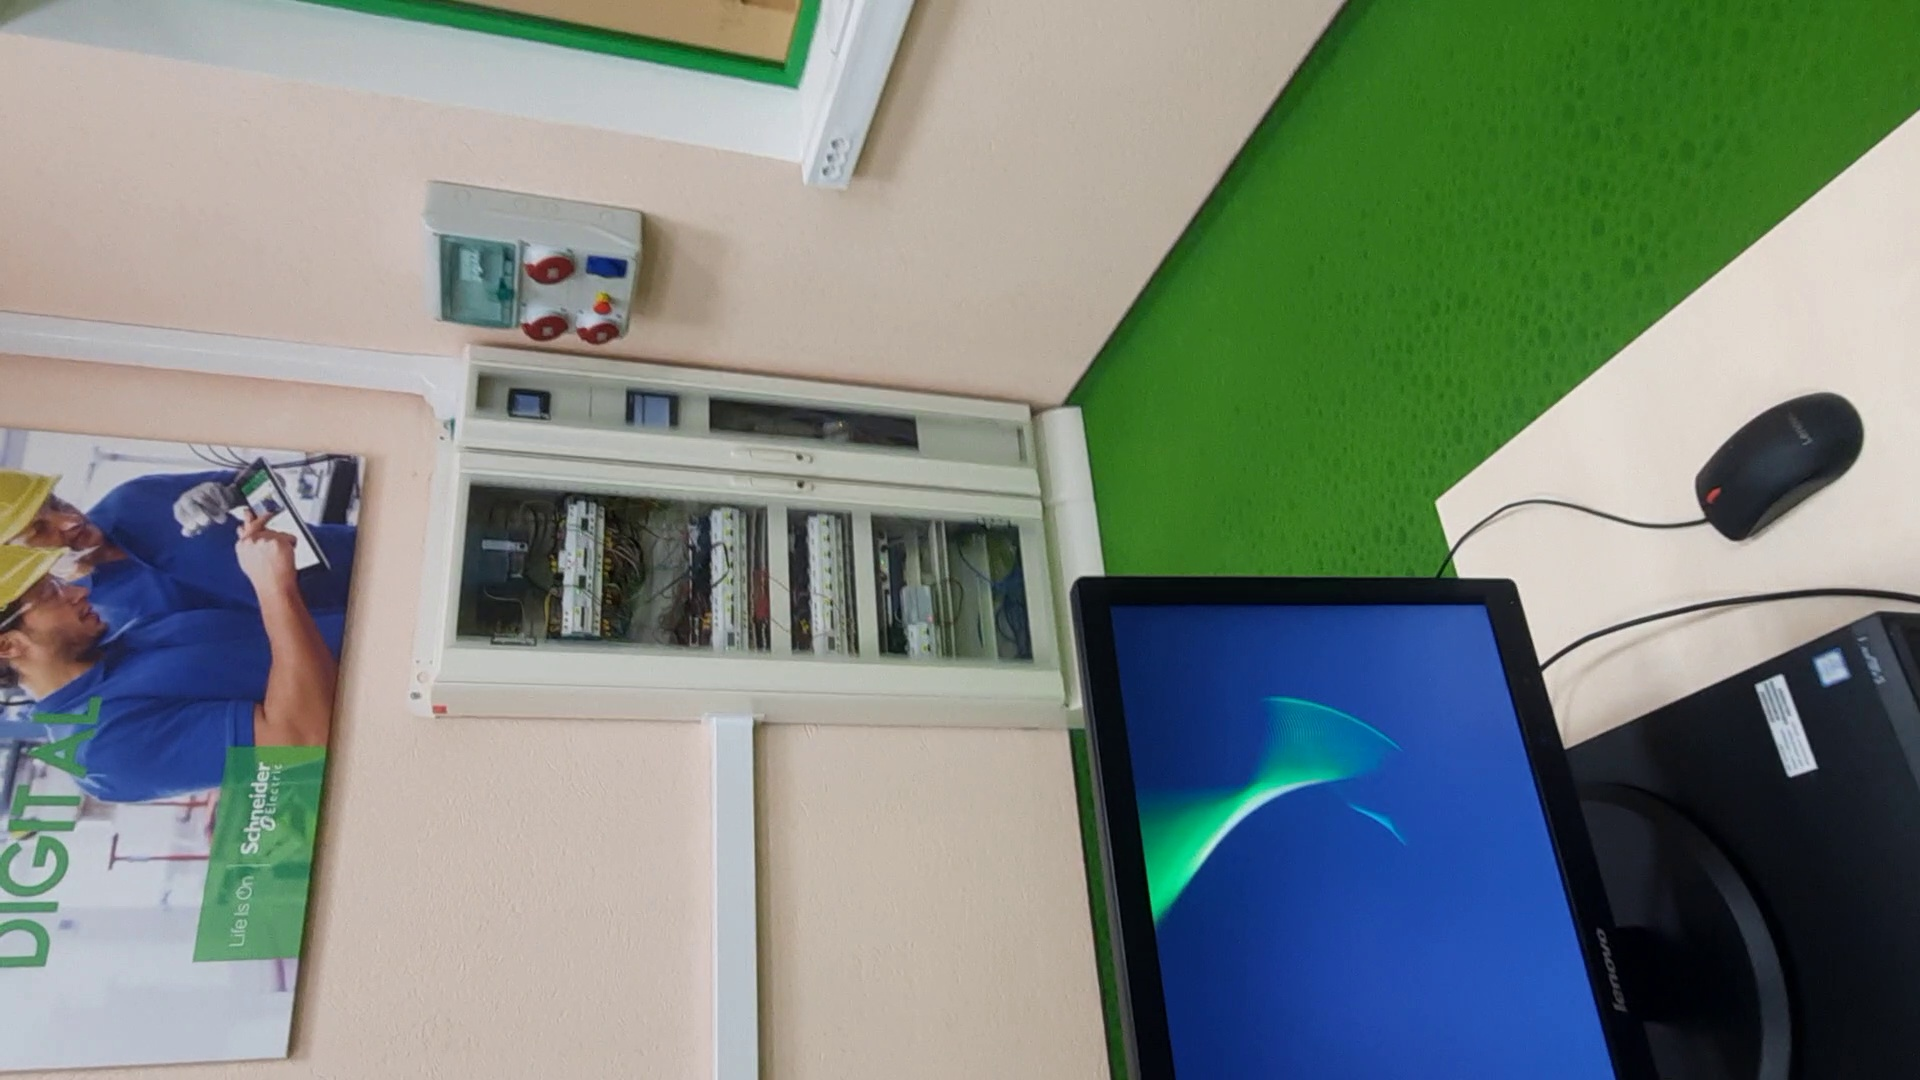stand1: (423, 335, 1063, 719)
